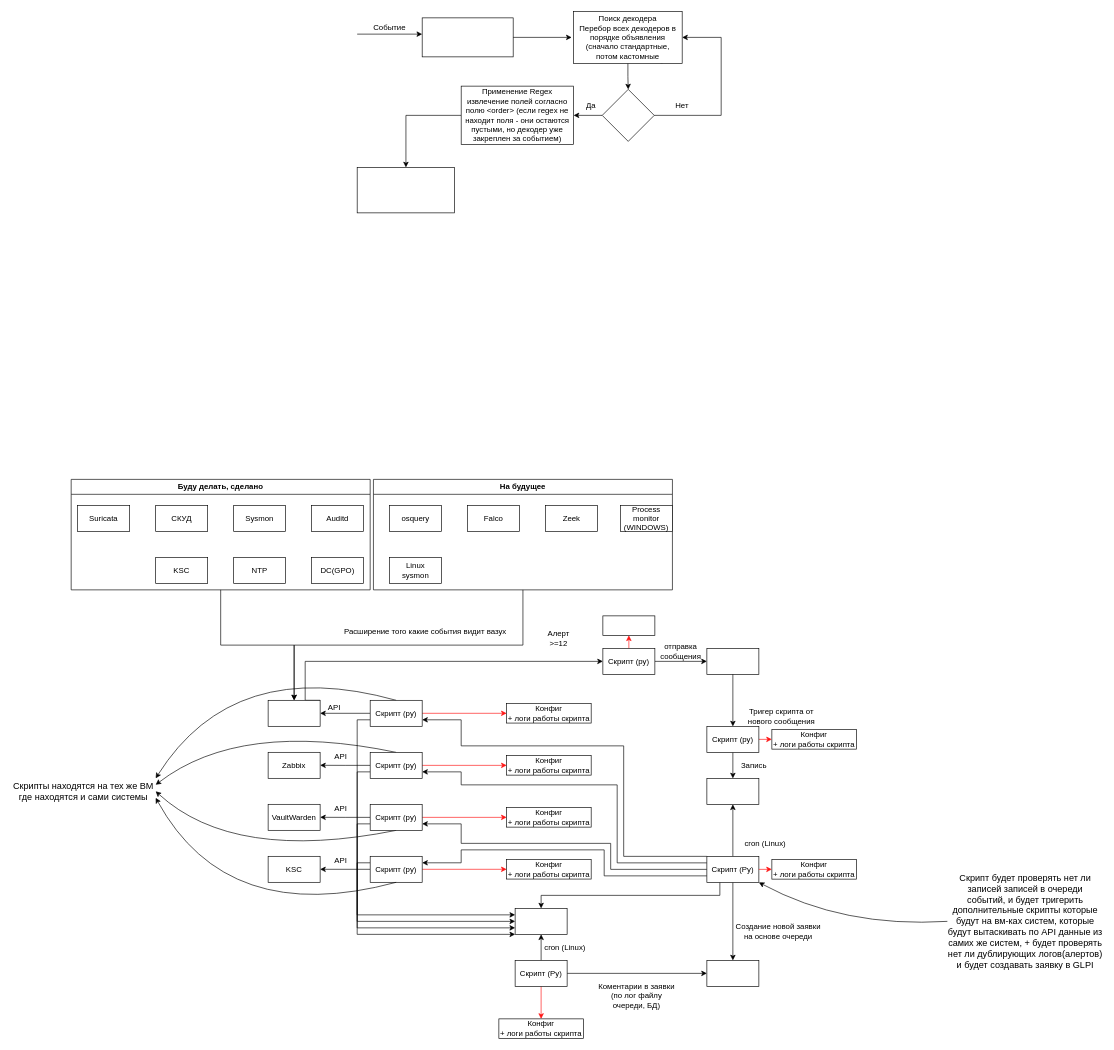
Some shapes in this 1114 by 1050 pixel diagram are drawn without their labels. Here are the shapes that lost their labels. From the top down, the centre of each, then its label:
At point (467, 37): "PRE-DECODING Извлечение timestamp, hostname, program_name".
At point (628, 115): "Prematch совпал?".
At point (406, 190): "Поиск правил Проверяются все правила с <decoded_as> (имя декодера)".
At point (628, 625): "Конфиг".
At point (732, 661): "MatterMost".
At point (293, 713): "Wazuh кластер".
At point (732, 791): "Лог файл (очередь событий)".
At point (540, 921): "Лог файл (очередь событий, БД)".
At point (732, 973): "GLPI (инциденты)".
